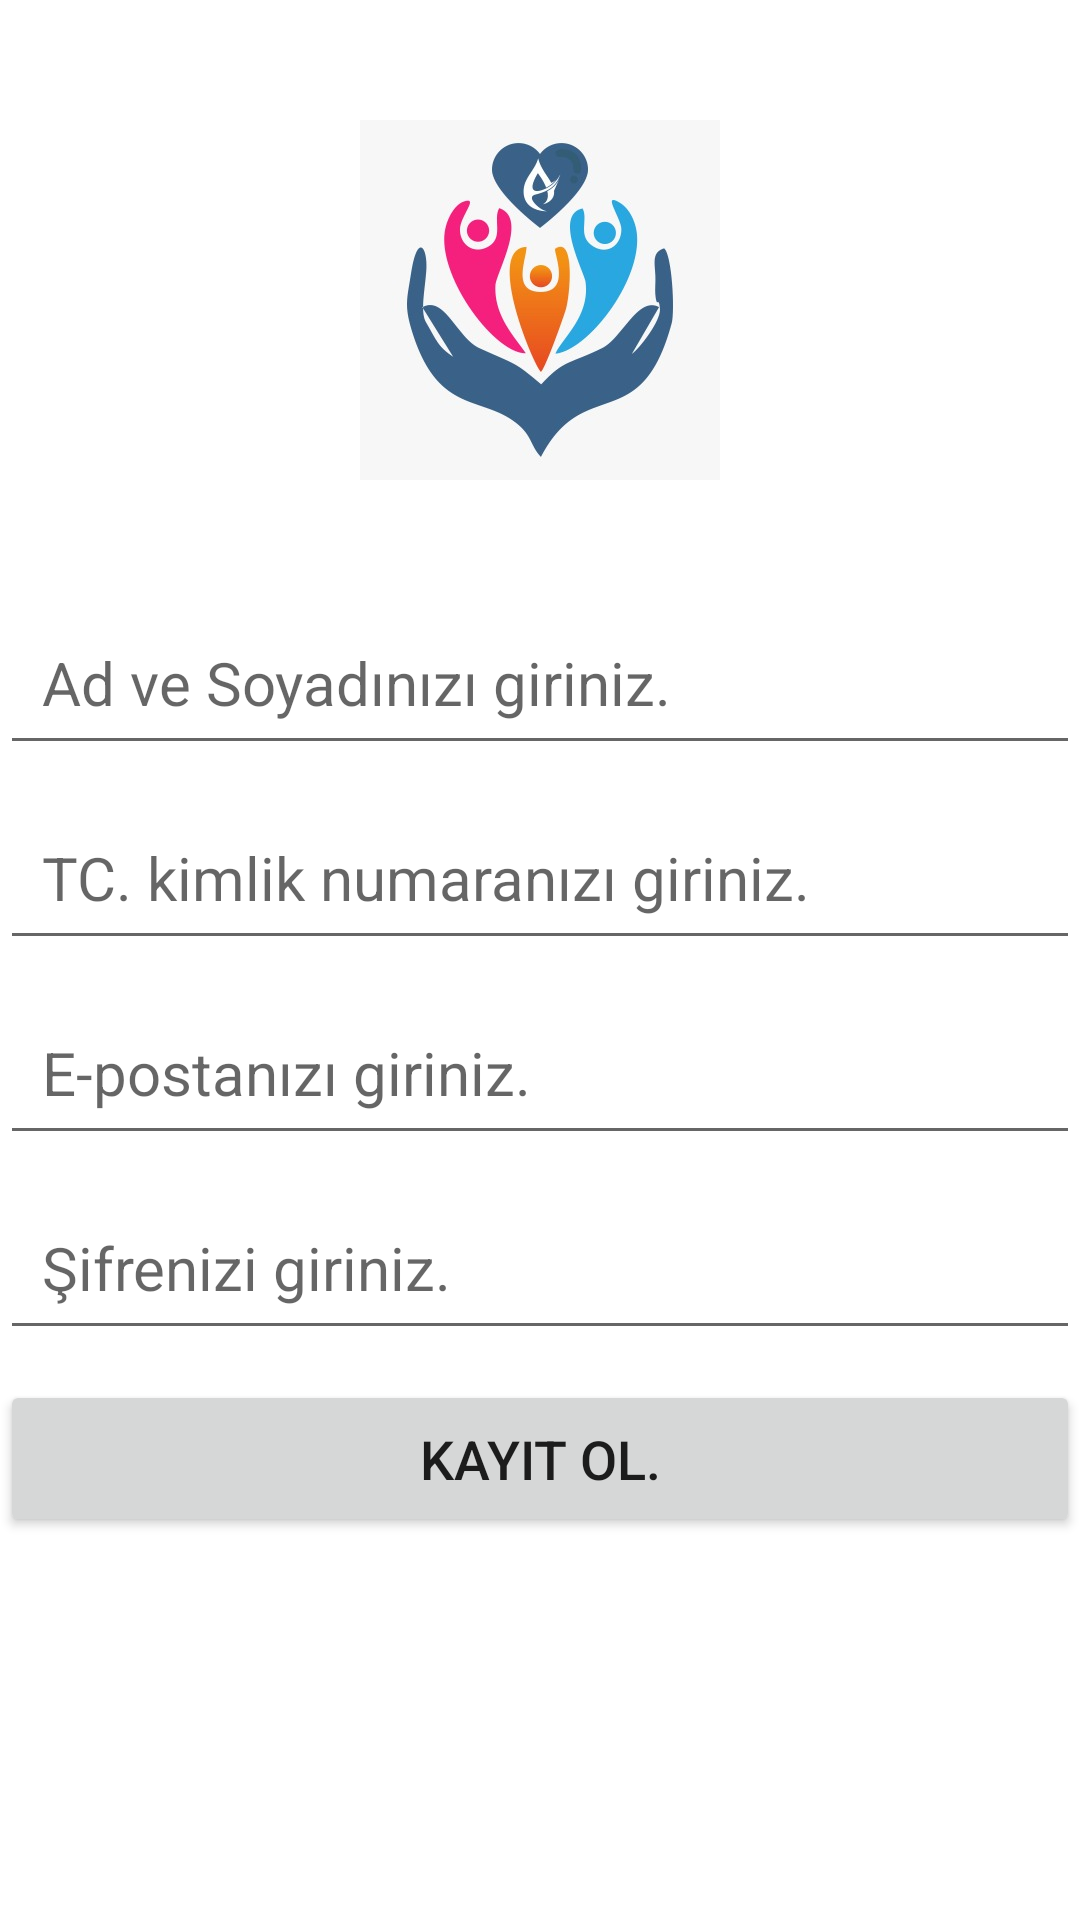

Screen size 1080x1920. Icon name, then its box in pixels as detection(x1, y1, x2, y2):
saglikyuvasiiki: detection(407, 143, 673, 457)
